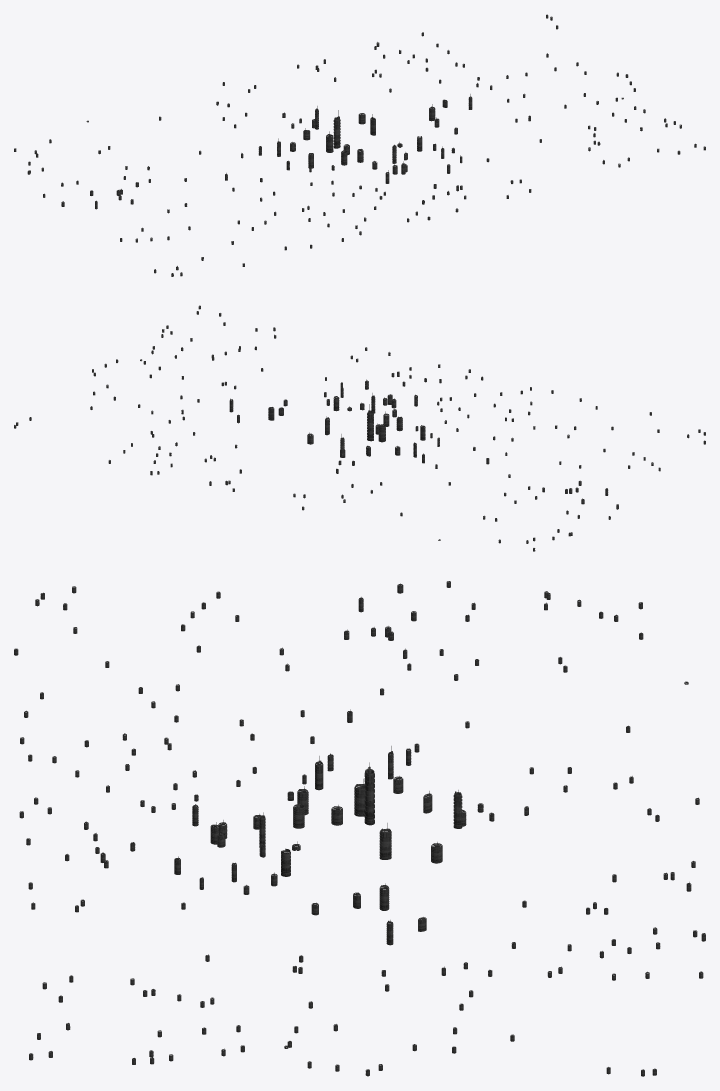
The model's file is city-layer-4.glb.
3 views of the same model, one above another, from view 1: azimuth 30°, elevation 25°; view 2: azimuth 150°, elevation 25°; view 3: azimuth 270°, elevation 25° (orthographic). The views are drawn at different scales.
Visible parts, largest first — view 1: Scatter city_SC low-poly building facade_0.018, Scatter city_SC low-poly building facade_0.020, Scatter city_SC low-poly building facade_0.017, Scatter city_SC low-poly building facade_0.015, Scatter city_SC low-poly building facade_0.016, Scatter city_SC low-poly building facade_0.019; view 2: Scatter city_SC low-poly building facade_0.018, Scatter city_SC low-poly building facade_0.020, Scatter city_SC low-poly building facade_0.017, Scatter city_SC low-poly building facade_0.015, Scatter city_SC low-poly building facade_0.016, Scatter city_SC low-poly building facade_0.019; view 3: Scatter city_SC low-poly building facade_0.018, Scatter city_SC low-poly building facade_0.017, Scatter city_SC low-poly building facade_0.020, Scatter city_SC low-poly building facade_0.015, Scatter city_SC low-poly building facade_0.016, Scatter city_SC low-poly building facade_0.019.
Part boxes in pixels (bbox=[...]): Scatter city_SC low-poly building facade_0.018: bbox=[28, 62, 680, 220]; Scatter city_SC low-poly building facade_0.020: bbox=[61, 43, 642, 276]; Scatter city_SC low-poly building facade_0.017: bbox=[34, 16, 696, 270]; Scatter city_SC low-poly building facade_0.015: bbox=[14, 25, 681, 260]; Scatter city_SC low-poly building facade_0.016: bbox=[28, 42, 675, 273]; Scatter city_SC low-poly building facade_0.019: bbox=[95, 14, 705, 276]; Scatter city_SC low-poly building facade_0.018: bbox=[93, 313, 579, 541]; Scatter city_SC low-poly building facade_0.020: bbox=[90, 328, 700, 509]; Scatter city_SC low-poly building facade_0.017: bbox=[16, 311, 689, 543]; Scatter city_SC low-poly building facade_0.015: bbox=[29, 325, 659, 551]; Scatter city_SC low-poly building facade_0.016: bbox=[92, 329, 705, 536]; Scatter city_SC low-poly building facade_0.019: bbox=[14, 305, 705, 503]; Scatter city_SC low-poly building facade_0.018: bbox=[19, 599, 688, 1070]; Scatter city_SC low-poly building facade_0.017: bbox=[42, 581, 703, 1076]; Scatter city_SC low-poly building facade_0.020: bbox=[14, 583, 691, 1068]; Scatter city_SC low-poly building facade_0.015: bbox=[24, 591, 660, 1074]; Scatter city_SC low-poly building facade_0.016: bbox=[20, 586, 705, 1076]; Scatter city_SC low-poly building facade_0.019: bbox=[28, 592, 674, 1075].
Bounding box in the file's own units: 49.22 × 3.14 × 29.32.
Materials: 1 (1 with a texture image).
